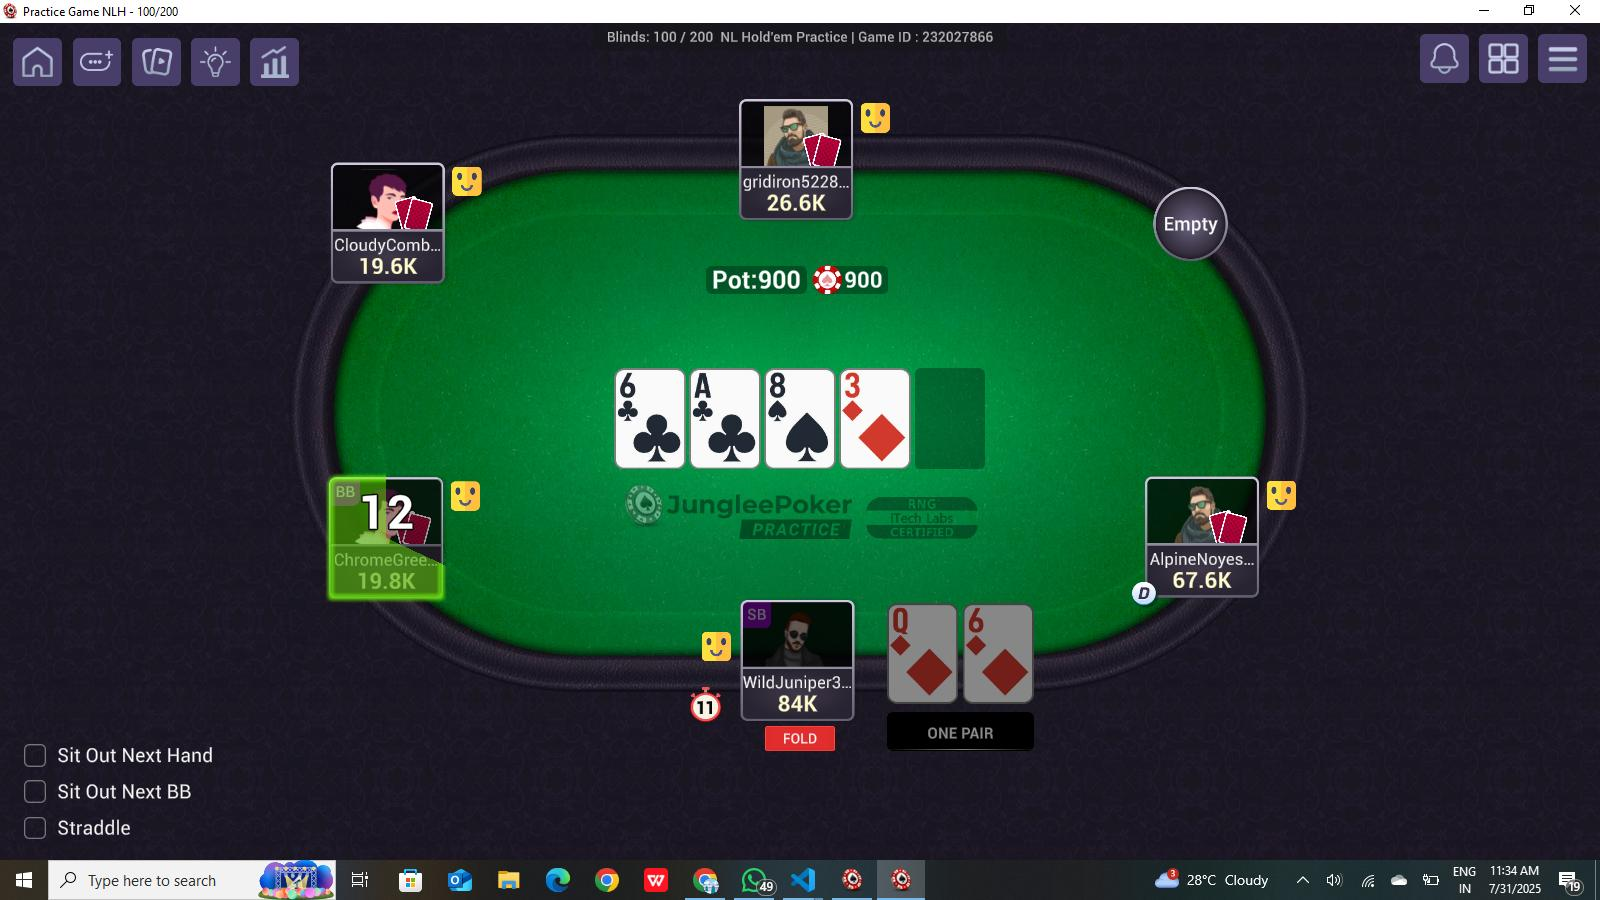card1_rank: (884, 601, 949, 641)
card1_suite_diamond: (900, 641, 957, 701)
card2_rank: (962, 602, 1032, 641)
card2_suite_diamond: (978, 641, 1032, 701)
flop1_rank: (620, 373, 677, 410)
flop1_suite_club: (630, 413, 681, 469)
flop2_rank: (686, 368, 756, 405)
flop2_suite_club: (700, 409, 758, 462)
flop3_rank: (764, 367, 830, 405)
flop3_suite_spades: (784, 404, 831, 464)
game_id: (854, 24, 1005, 53)
my_stack: (744, 680, 849, 721)
position_BB: (332, 475, 367, 513)
position_SB: (740, 601, 776, 637)
total_pot: (700, 260, 888, 298)
turn_rank: (836, 368, 899, 405)
turn_suite_diamond: (852, 404, 909, 465)
villian1_name: (327, 543, 442, 577)
villian1_stack: (327, 568, 448, 599)
villian2_name: (332, 229, 440, 257)
villian2_stack: (336, 253, 449, 281)
villian3_name: (738, 168, 858, 195)
villian3_stack: (736, 189, 849, 220)
villian5_name: (1148, 548, 1255, 569)
villian5_stack: (1144, 568, 1260, 600)
